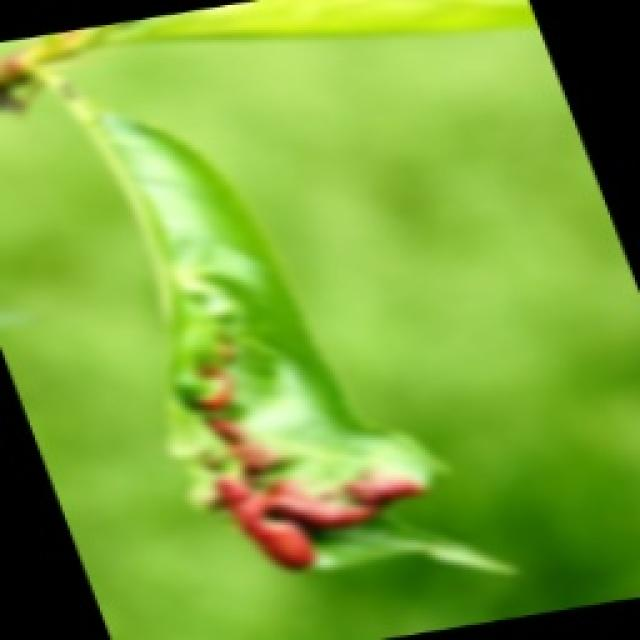peach_leaf_curl: (124, 256, 518, 626)
